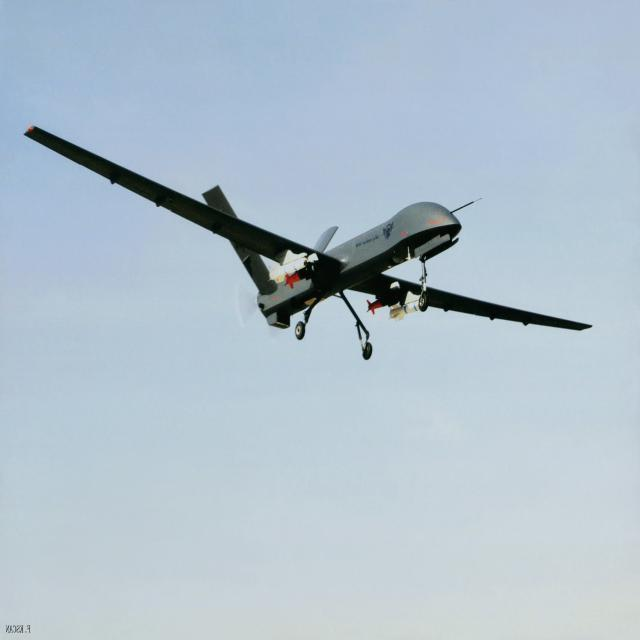iha: (7, 120, 587, 352)
